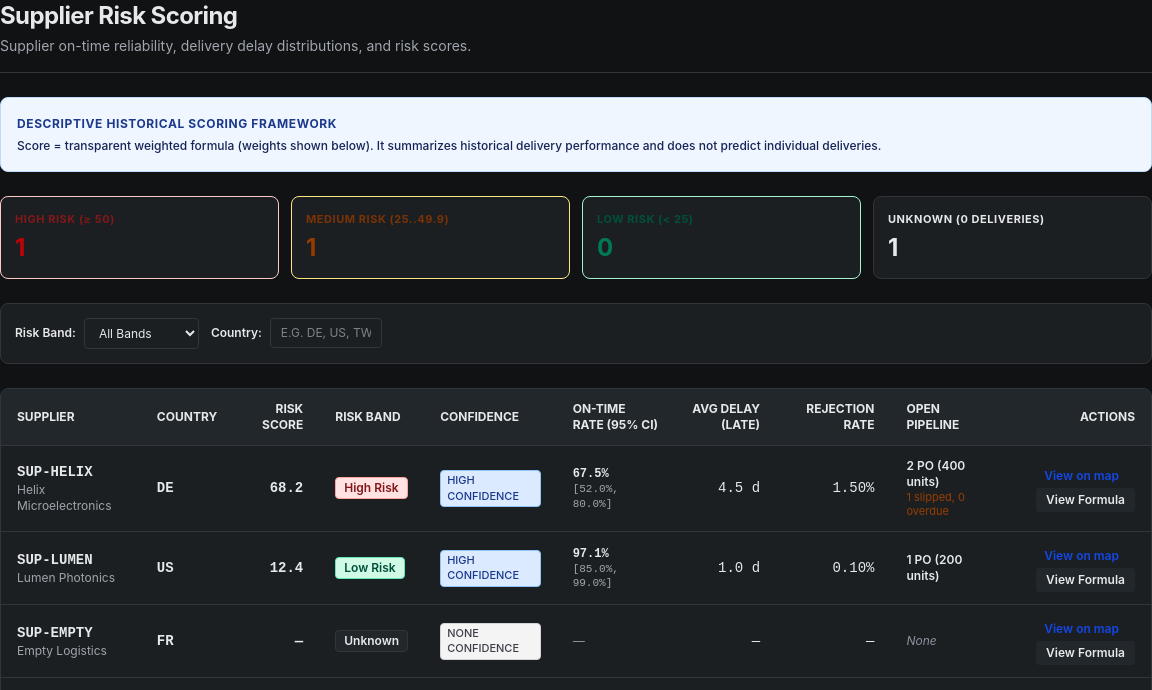
Scenario: SupplierRiskPage › row expansion toggles and renders explanation, breakdown table, and monthly trends
Click the button with test id "toggle-supplier-SUP-HELIX" at (1086, 500), box [1036,488,1135,512]
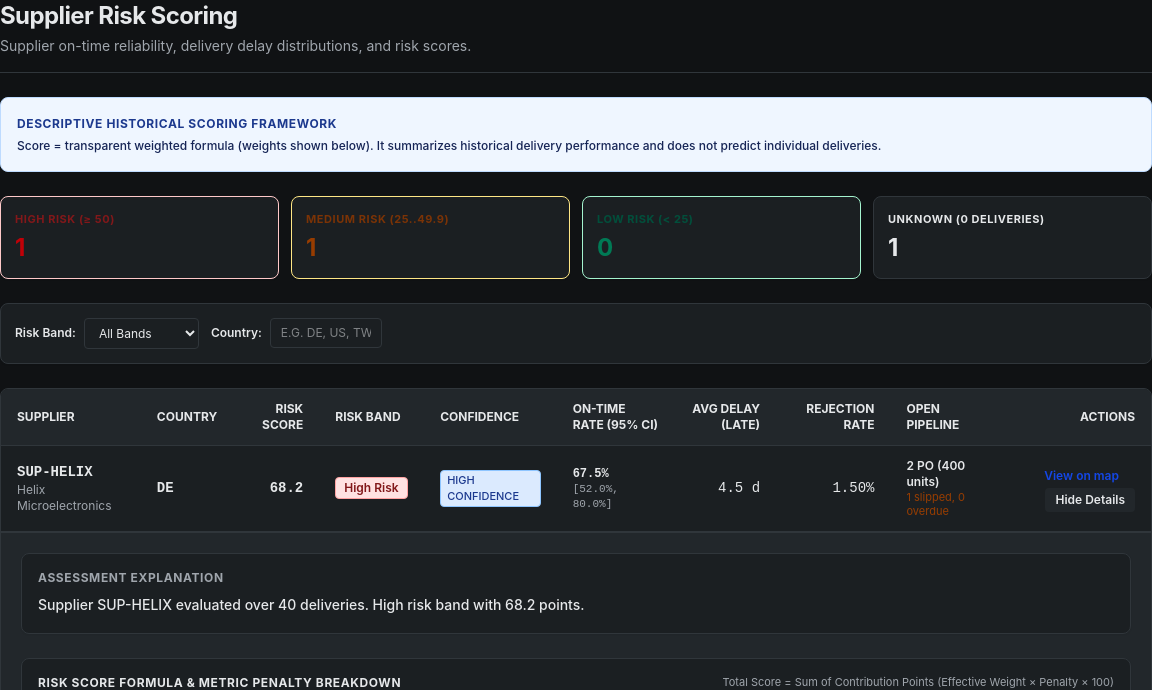
expect the button with test id "toggle-supplier-SUP-HELIX" is expanded: met
expect the text with test id "supplier-explanation-1" shows "Supplier SUP-HELIX evaluated over 40 deliveries.": met, box [38,596,584,613]
# Close expansion
Click the button with test id "toggle-supplier-SUP-HELIX" at (1090, 500), box [1046,488,1135,512]
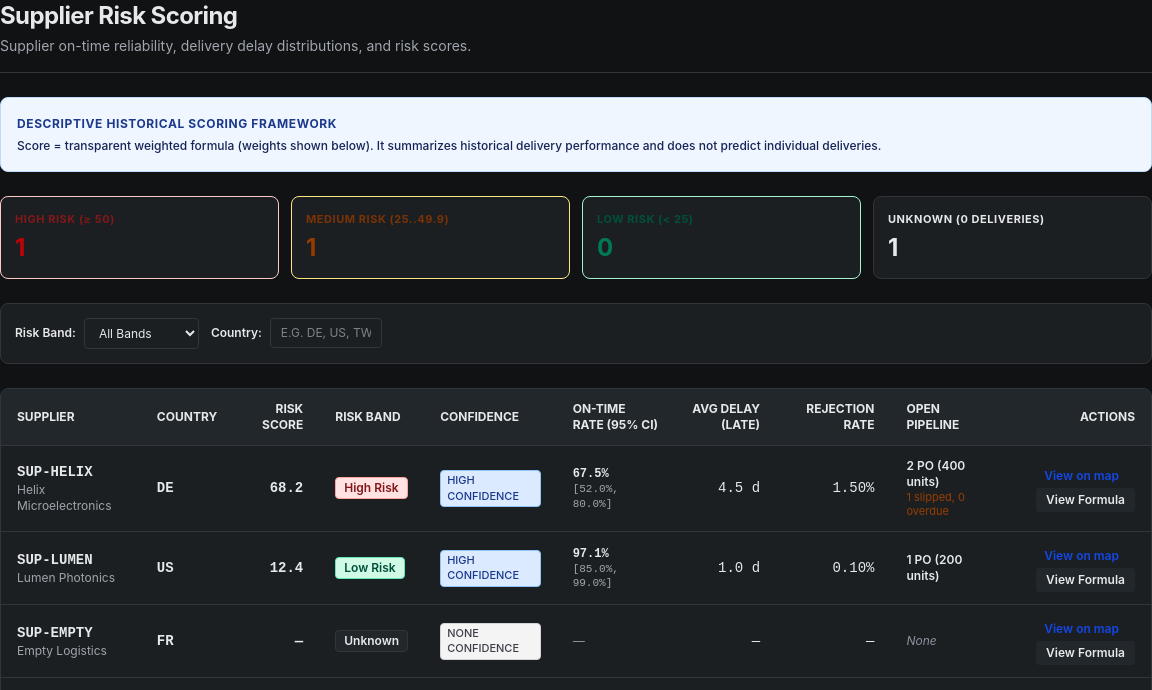
expect the button with test id "toggle-supplier-SUP-HELIX" is collapsed: met, box [1036,488,1135,512]
